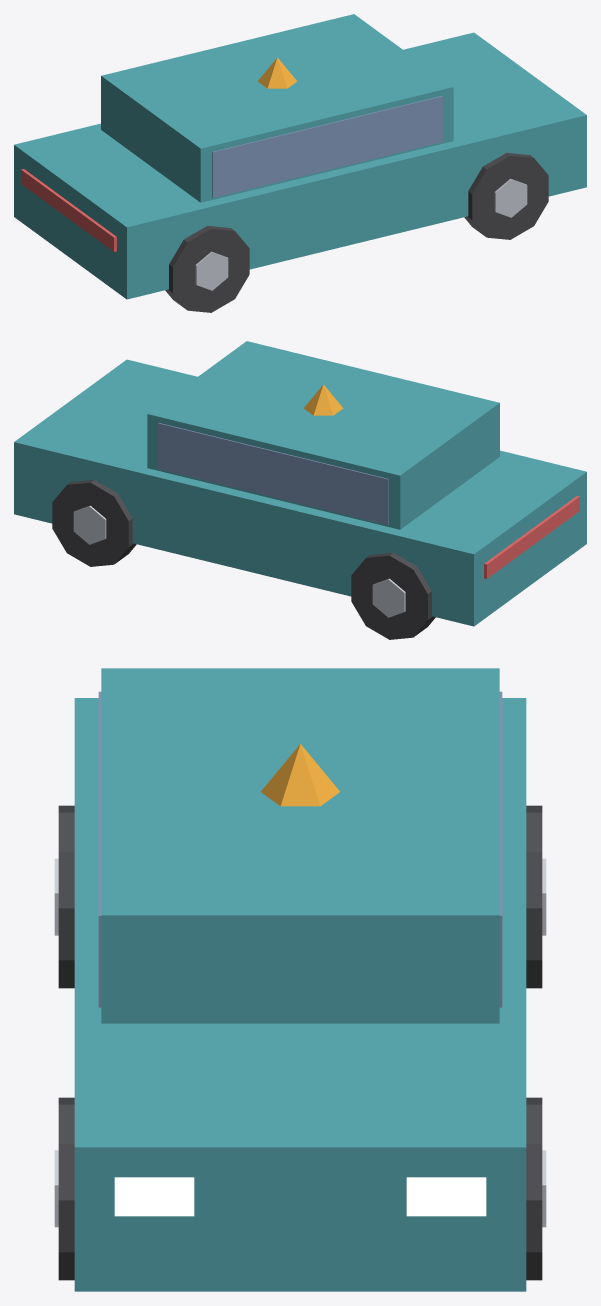
File: Car_Teal.fbx
3 renders of one model, top to bottom at view 1: azimuth 30°, elevation 25°; view 2: azimuth 150°, elevation 25°; view 3: azimuth 270°, elevation 25°, orthographic. The views are drawn at different scales.
Parts seen in each view (by area): view 1: Car_Teal; view 2: Car_Teal; view 3: Car_Teal.
Part boxes in pixels (x1=…): Car_Teal: x1=14, y1=14, x2=586, y2=312; Car_Teal: x1=14, y1=341, x2=586, y2=639; Car_Teal: x1=54, y1=668, x2=546, y2=1291.
Bounding box in the file's own units: 4.05 × 1.5 × 1.85.
